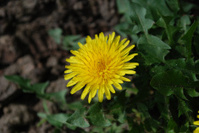dandelion: (64, 34, 135, 101)
